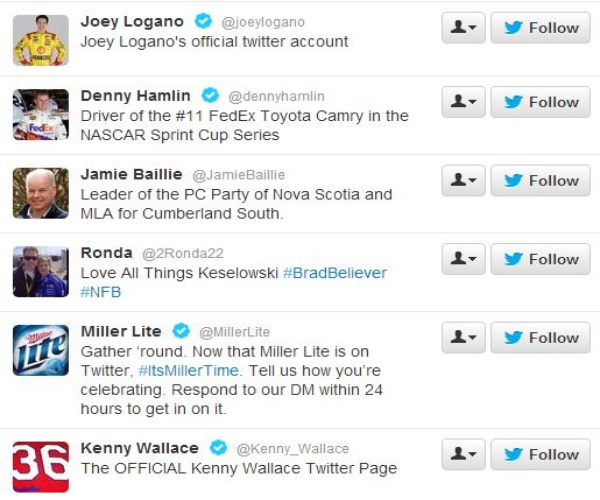following: (487, 237, 598, 284), (486, 158, 598, 203), (488, 317, 595, 363), (486, 430, 594, 475), (487, 81, 593, 124), (488, 6, 593, 48)
